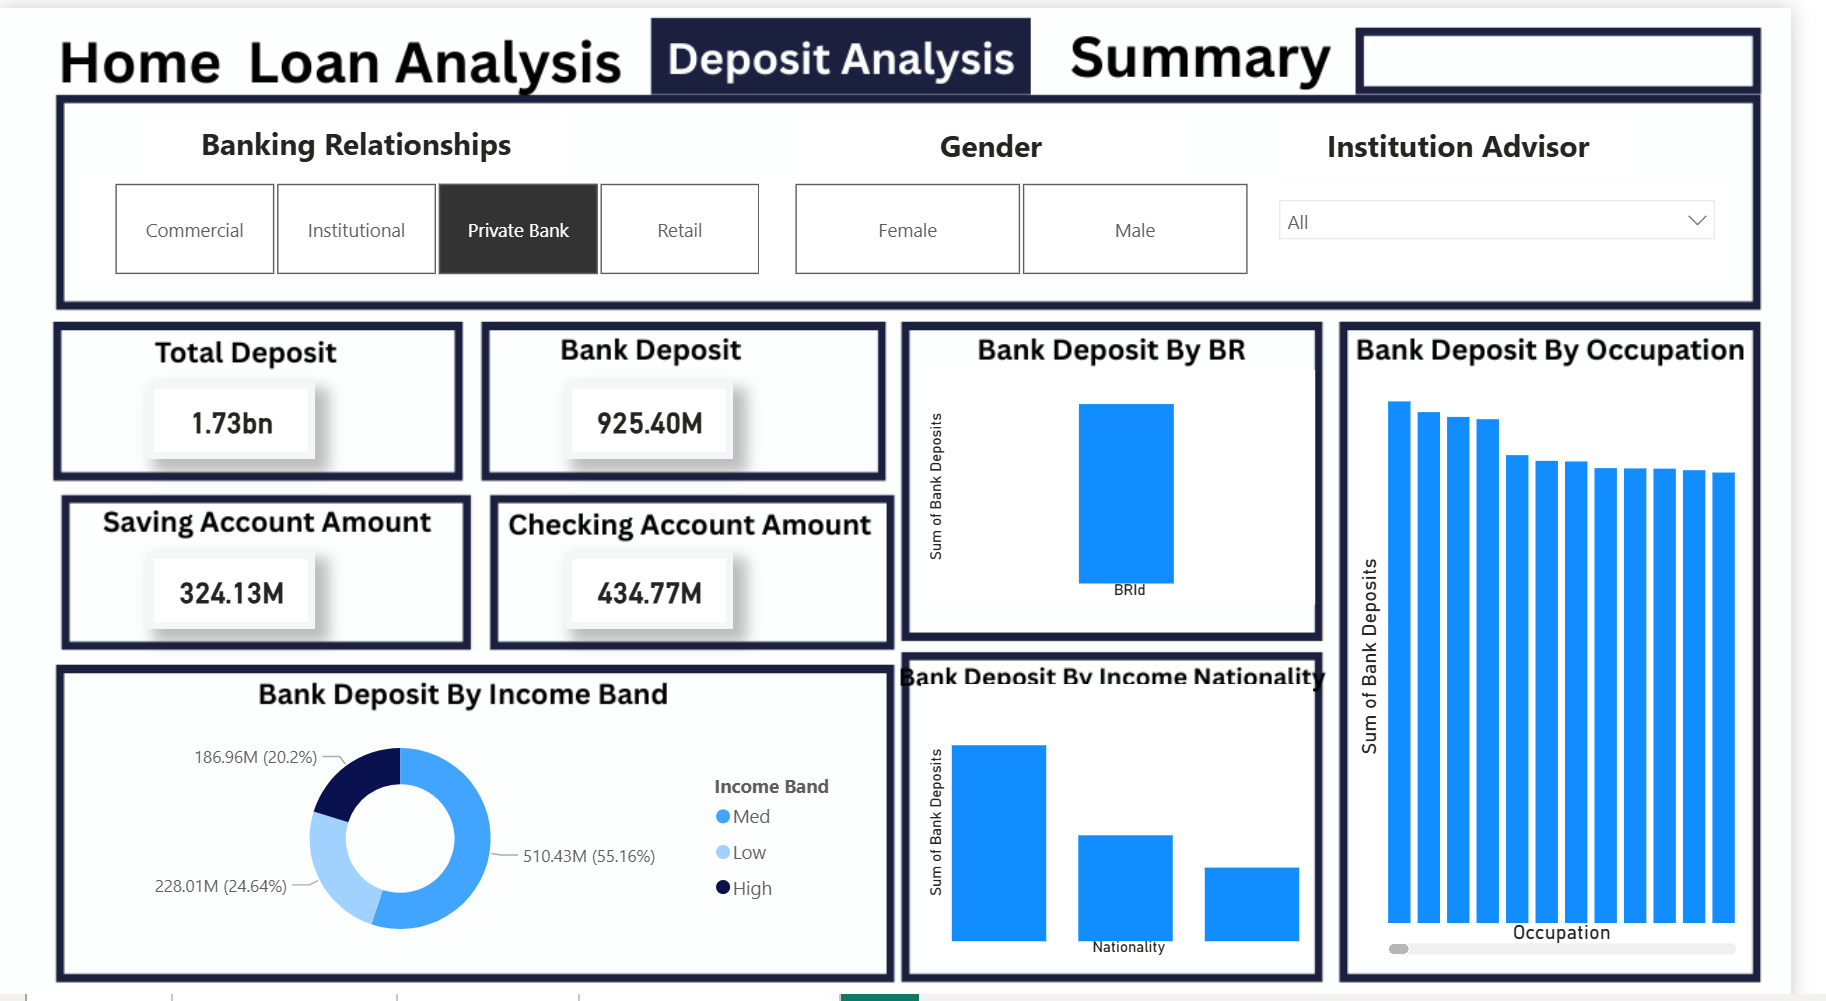

Layout of this report page (visuals, bound fields, positions):
{"tool":"powerbi","page":{"name":"Deposit Analysis","canvas":[1280,720],"ordinal":3},"visuals":[{"type":"actionButton","box":[42.5,20,122.5,40],"z":0},{"type":"actionButton","box":[842.5,20,227.5,40],"z":2000},{"type":"cardVisual","fields":{"Data":["Banking_Clients.Total Deposit"]},"box":[105,267.5,120,55],"z":3000},{"type":"cardVisual","fields":{"Data":["Sum(Banking_Clients.Bank Deposits)"]},"box":[403.8,267.5,120,55],"z":4000},{"type":"cardVisual","fields":{"Data":["Sum(Banking_Clients.Saving Accounts)"]},"box":[105,388.8,120,55],"z":5000},{"type":"cardVisual","fields":{"Data":["Sum(Banking_Clients.Checking Accounts)"]},"box":[403.8,388.8,120,55],"z":6000},{"type":"donutChart","fields":{"Category":["Banking_Clients.Income Band"],"Y":["Sum(Banking_Clients.Bank Deposits)"]},"box":[57.5,506.2,558.8,175],"z":7000},{"type":"clusteredColumnChart","fields":{"Category":["Banking_Clients.BRId"],"Y":["Sum(Banking_Clients.Bank Deposits)"]},"box":[658.8,258.8,281.2,167.5],"z":8000},{"type":"clusteredColumnChart","fields":{"Category":["Banking_Clients.Nationality"],"Y":["Sum(Banking_Clients.Bank Deposits)"]},"box":[658.8,482.5,280,198.8],"z":9000},{"type":"clusteredColumnChart","fields":{"Category":["Banking_Clients.Occupation"],"Y":["Sum(Banking_Clients.Bank Deposits)"]},"box":[966.2,258.8,280,422.5],"z":10000},{"type":"slicer","fields":{"Values":["Banking_Clients.BRId"]},"box":[57.1,118.6,510,78.6],"z":11000},{"type":"slicer","fields":{"Values":["Banking_Clients.GenderId"]},"box":[542.9,118.6,372.9,78.6],"z":12000},{"type":"slicer","fields":{"Values":["Banking_Clients.IAId"]},"box":[904.3,127.1,331.4,68.6],"z":13000},{"type":"textbox","box":[104.3,77.1,301.4,41.4],"z":14000},{"type":"textbox","box":[567.1,78.6,282.9,41.4],"z":15000},{"type":"textbox","box":[915.7,78.6,252.9,41.4],"z":16000},{"type":"actionButton","box":[42.9,20,122.9,40],"z":16001},{"type":"actionButton","box":[177.1,20,268.6,40],"z":16002},{"type":"actionButton","box":[747.1,0,220,61.4],"z":16003}]}

Visuals, with their boxes in screenshot pixels (x1, y1, x2, y2), scaled from the page's 1280x720 canvas onto the 1826x1001 screenshot:
actionButton: {"left": 61, "top": 28, "right": 235, "bottom": 83}
actionButton: {"left": 1202, "top": 28, "right": 1526, "bottom": 83}
cardVisual - Banking_Clients.Total Deposit: {"left": 150, "top": 372, "right": 321, "bottom": 448}
cardVisual - Sum(Banking_Clients.Bank Deposits): {"left": 576, "top": 372, "right": 747, "bottom": 448}
cardVisual - Sum(Banking_Clients.Saving Accounts): {"left": 150, "top": 541, "right": 321, "bottom": 617}
cardVisual - Sum(Banking_Clients.Checking Accounts): {"left": 576, "top": 541, "right": 747, "bottom": 617}
donutChart - Banking_Clients.Income Band x Sum(Banking_Clients.Bank Deposits): {"left": 82, "top": 704, "right": 879, "bottom": 947}
clusteredColumnChart - Banking_Clients.BRId x Sum(Banking_Clients.Bank Deposits): {"left": 940, "top": 360, "right": 1341, "bottom": 593}
clusteredColumnChart - Banking_Clients.Nationality x Sum(Banking_Clients.Bank Deposits): {"left": 940, "top": 671, "right": 1339, "bottom": 947}
clusteredColumnChart - Banking_Clients.Occupation x Sum(Banking_Clients.Bank Deposits): {"left": 1378, "top": 360, "right": 1778, "bottom": 947}
slicer - Banking_Clients.BRId: {"left": 81, "top": 165, "right": 809, "bottom": 274}
slicer - Banking_Clients.GenderId: {"left": 774, "top": 165, "right": 1306, "bottom": 274}
slicer - Banking_Clients.IAId: {"left": 1290, "top": 177, "right": 1763, "bottom": 272}
textbox: {"left": 149, "top": 107, "right": 579, "bottom": 165}
textbox: {"left": 809, "top": 109, "right": 1213, "bottom": 167}
textbox: {"left": 1306, "top": 109, "right": 1667, "bottom": 167}
actionButton: {"left": 61, "top": 28, "right": 237, "bottom": 83}
actionButton: {"left": 253, "top": 28, "right": 636, "bottom": 83}
actionButton: {"left": 1066, "top": 0, "right": 1380, "bottom": 85}
